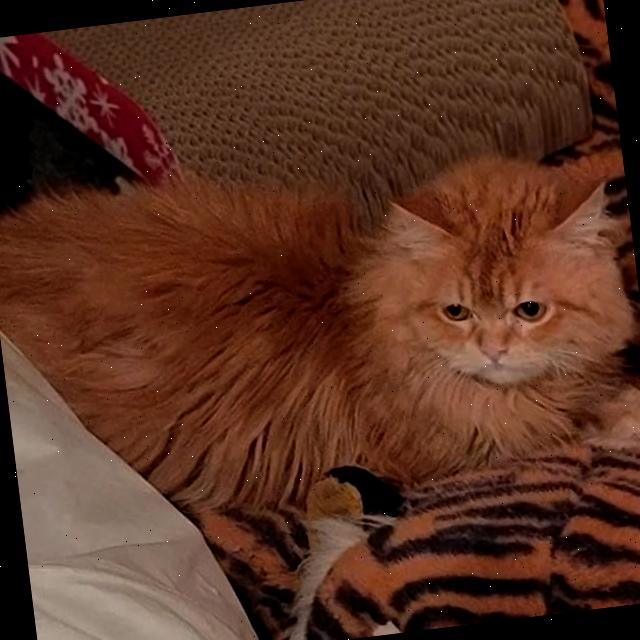persian_cat: (359, 137, 640, 480)
